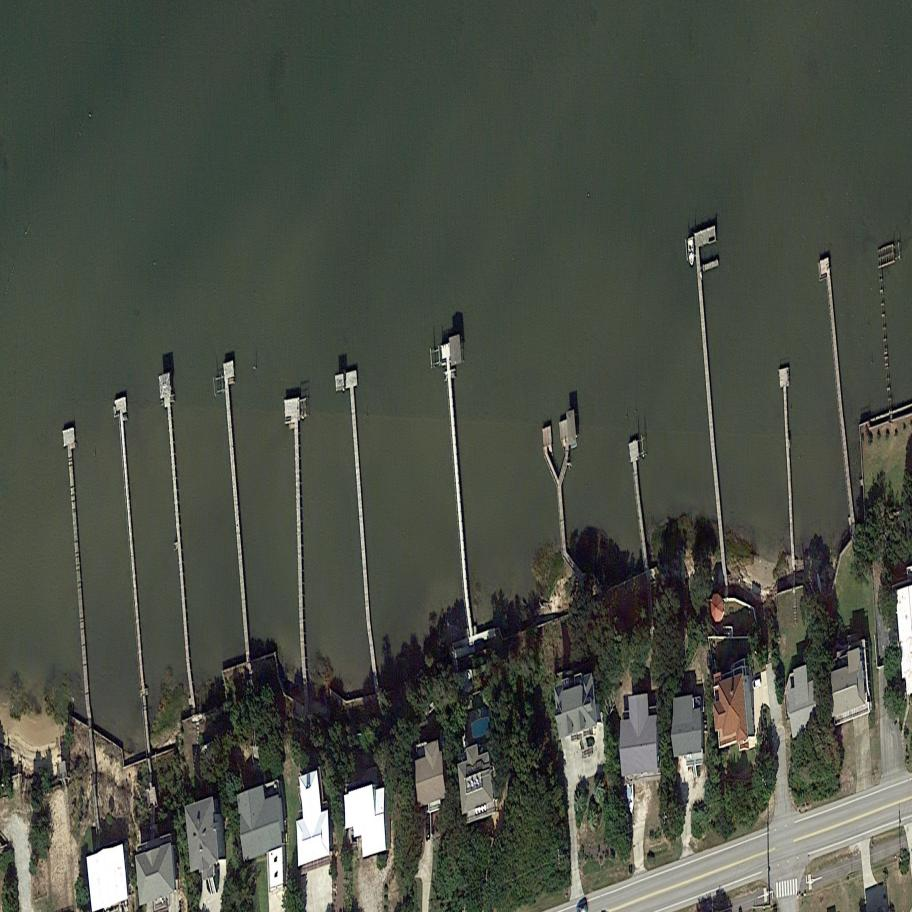ship: (687, 236, 697, 269), (626, 783, 635, 815)
small-vehicle: (426, 815, 431, 841)
